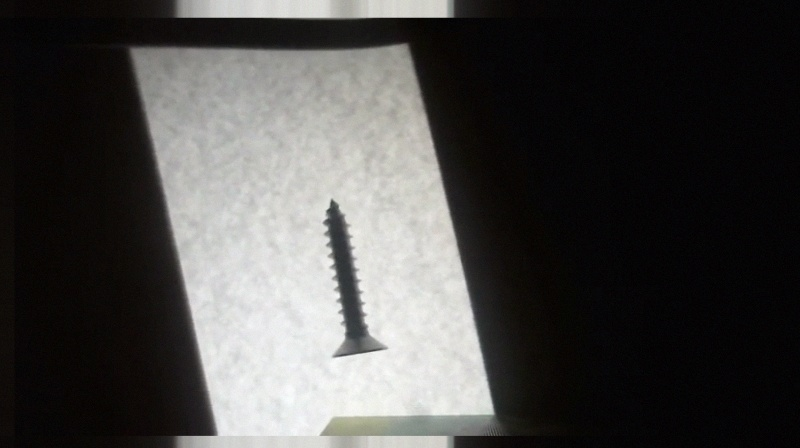S001: (316, 197, 392, 360)
